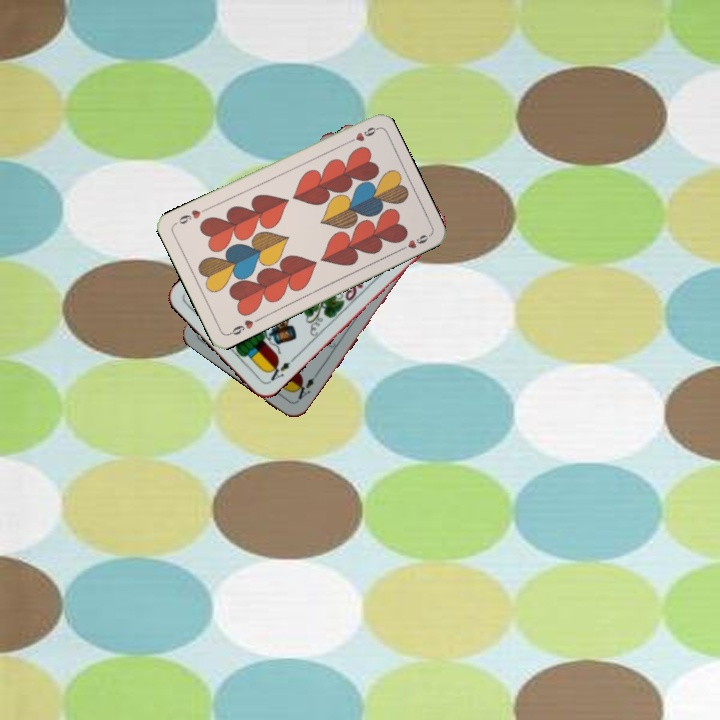EA: (263, 354, 297, 386), (290, 373, 317, 404)
H9: (341, 123, 380, 147), (224, 314, 262, 338)
